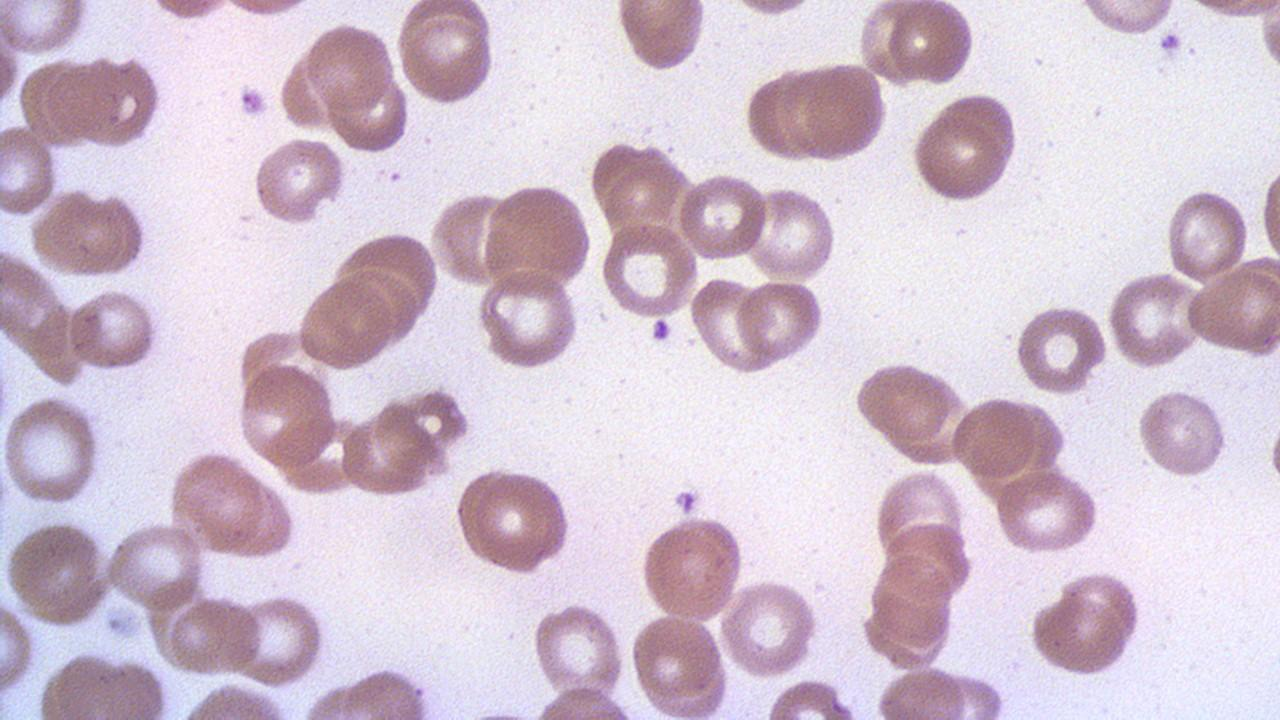Platelets: (236, 82, 270, 121), (1156, 30, 1184, 58), (648, 316, 674, 344)
RBC: (480, 181, 594, 296), (910, 92, 1020, 206), (637, 512, 748, 624), (468, 464, 574, 576), (778, 59, 891, 163), (27, 187, 150, 282), (234, 360, 340, 470), (1, 392, 101, 507), (4, 522, 110, 626), (476, 267, 582, 370), (396, 3, 498, 109), (717, 578, 821, 678), (627, 611, 726, 714), (530, 600, 626, 706), (598, 220, 700, 319), (294, 277, 400, 371), (170, 453, 268, 554), (1105, 270, 1203, 369), (991, 468, 1103, 554), (232, 590, 330, 688), (339, 403, 438, 498), (1025, 591, 1131, 679), (1012, 300, 1109, 396), (744, 184, 838, 283), (106, 521, 208, 611), (687, 273, 776, 374), (851, 360, 961, 441), (162, 593, 263, 681), (1186, 263, 1280, 356), (304, 20, 396, 115), (677, 170, 769, 265), (1136, 386, 1228, 481), (251, 135, 347, 226), (40, 651, 176, 715), (65, 287, 162, 375), (1164, 185, 1250, 284), (77, 52, 162, 150), (951, 394, 1042, 482), (736, 276, 826, 364), (891, 0, 977, 90), (867, 558, 954, 644), (451, 465, 522, 569), (742, 66, 816, 165), (614, 1, 708, 75), (47, 56, 120, 148), (1057, 568, 1143, 644), (328, 76, 411, 154), (856, 0, 926, 88), (0, 123, 60, 219), (872, 663, 970, 717), (0, 1, 89, 57), (528, 684, 640, 719), (0, 594, 37, 697), (764, 676, 854, 718), (1074, 0, 1178, 36), (1257, 160, 1279, 276), (142, 0, 238, 23), (724, 0, 820, 21), (1256, 2, 1280, 80)
WBC: (711, 29, 1273, 720)
